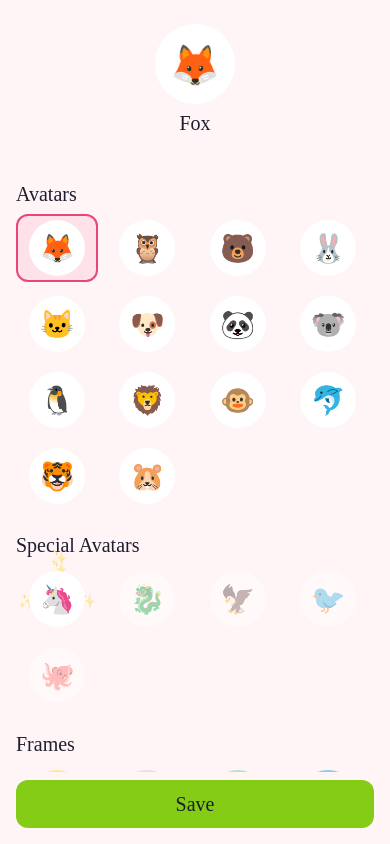
Test case: AvatarPickerScreen › tapping an unlocked avatar updates the preview
Note: Tap the second avatar (owl)
Click the element with test id "avatar-item" showing "🦉": (148, 248) [120,220,176,276]
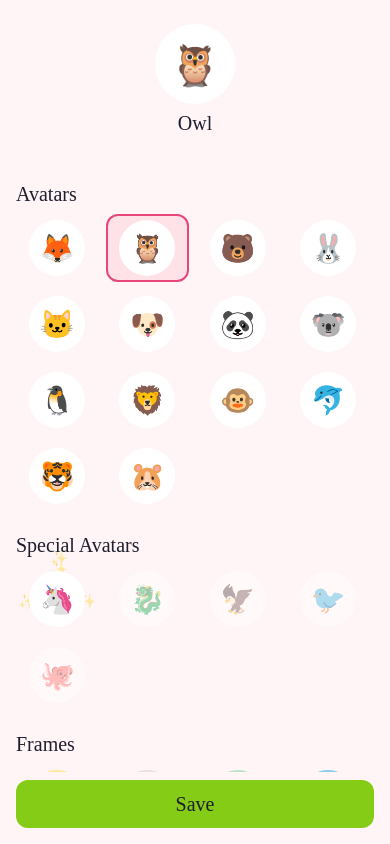
Result: the text with test id "avatar-preview-label" reads "Owl" at [178,112,212,134]
